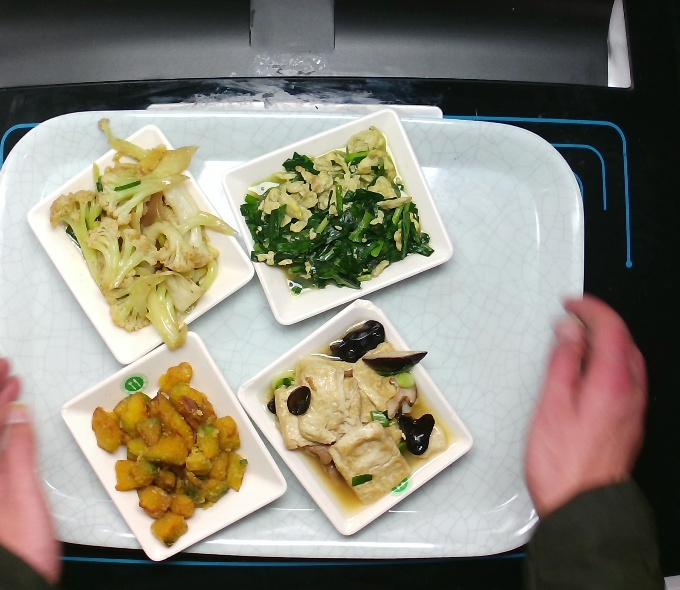wcq-DanHuangNanGua: (83, 364, 252, 550)
wcq-JiaChangDouFu: (258, 315, 451, 515)
wcq-JiuCaiJiDan: (241, 130, 440, 299)
wcq-QiuCai: (46, 140, 234, 350)
